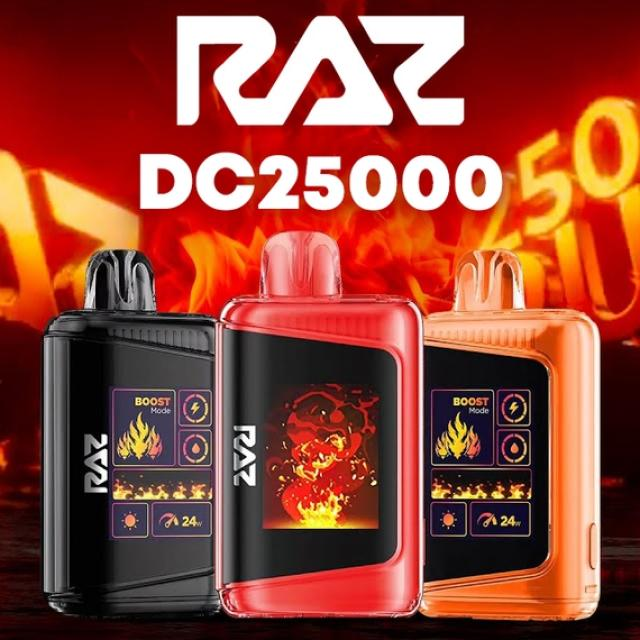Hazard: (214, 229, 424, 620)
